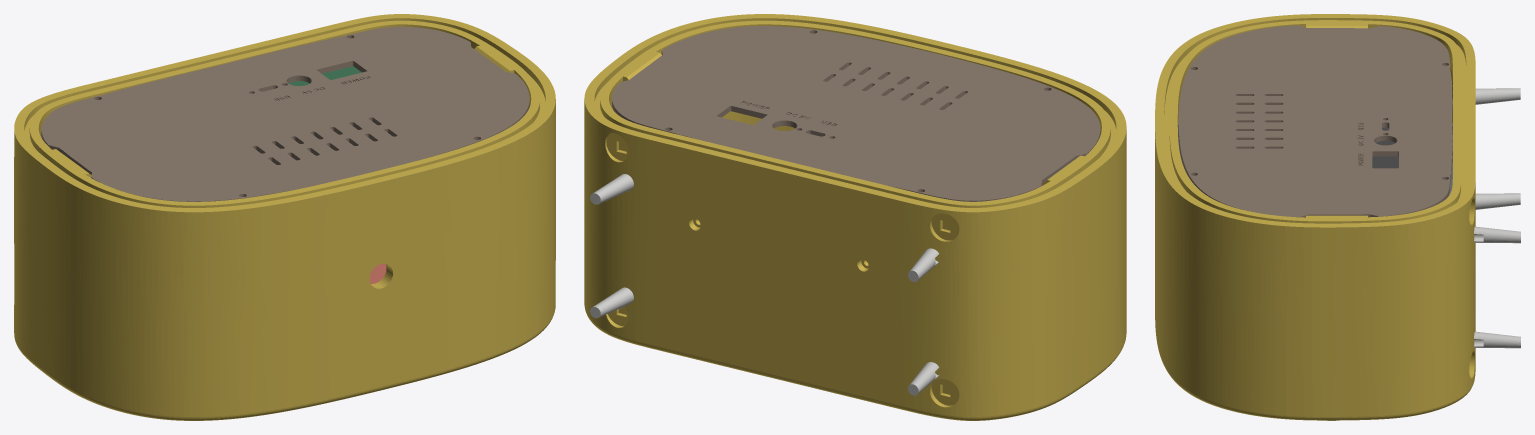
File: radio_montert.glb
The picture shows the model from 3 angles, left to right: view 1: azimuth 30°, elevation 25°; view 2: azimuth 150°, elevation 25°; view 3: azimuth 270°, elevation 25°; orthographic projection. The views are drawn at different scales.
Visible parts, largest first — view 1: skall, bakplate; view 2: skall, bakplate, bein_1_-1, bein_1_1, bein_-1_1, bein_-1_-1; view 3: skall, bakplate, bein_1_-1, bein_-1_-1, bein_1_1, bein_-1_1, skillevegg.
Boxes of the visible parts, left/top/right/bottom form: skall: left=14, top=14, right=555, bottom=420; bakplate: left=41, top=26, right=529, bottom=201; skall: left=584, top=14, right=1126, bottom=420; bakplate: left=612, top=26, right=1100, bottom=201; bein_1_-1: left=590, top=287, right=633, bottom=318; bein_1_1: left=590, top=174, right=633, bottom=204; bein_-1_1: left=908, top=248, right=938, bottom=282; bein_-1_-1: left=908, top=362, right=938, bottom=395; skall: left=1155, top=14, right=1475, bottom=420; bakplate: left=1178, top=25, right=1452, bottom=217; bein_1_-1: left=1474, top=331, right=1520, bottom=348; bein_-1_-1: left=1475, top=193, right=1520, bottom=209; bein_1_1: left=1474, top=226, right=1520, bottom=243; bein_-1_1: left=1475, top=88, right=1520, bottom=104; skillevegg: left=1177, top=123, right=1452, bottom=168.
Size of the model in its own units: 244 by 109 by 177.
